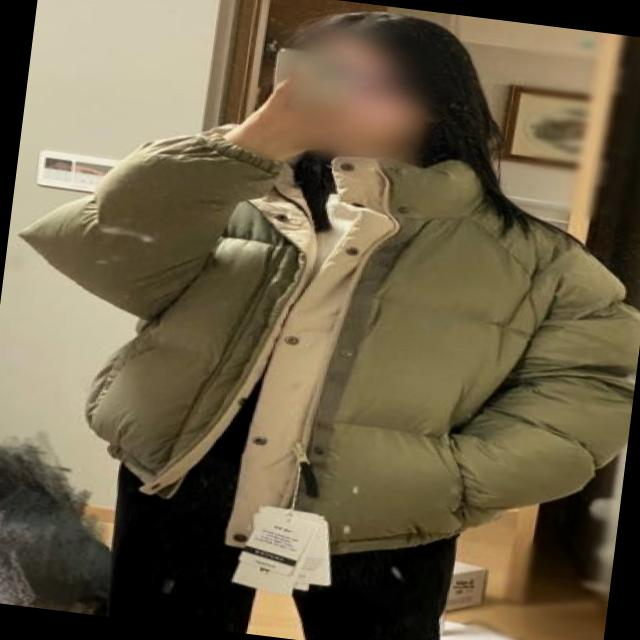padding: (0, 90, 640, 589)
slacks: (104, 379, 471, 640)
